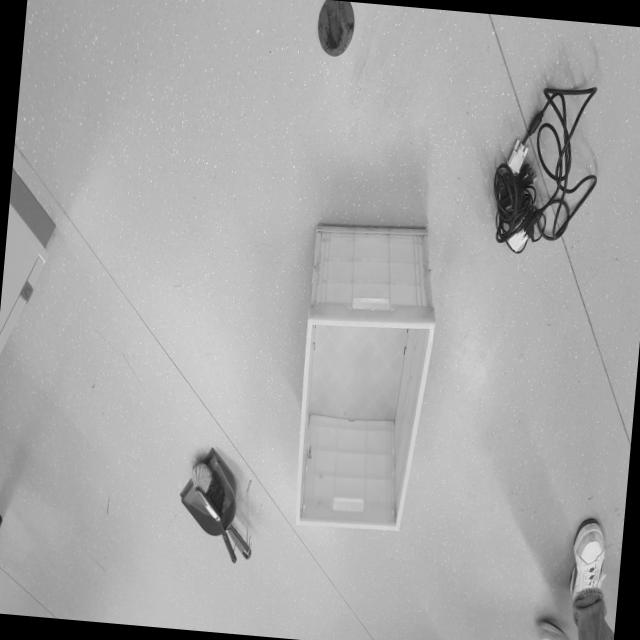box: (280, 208, 450, 562)
